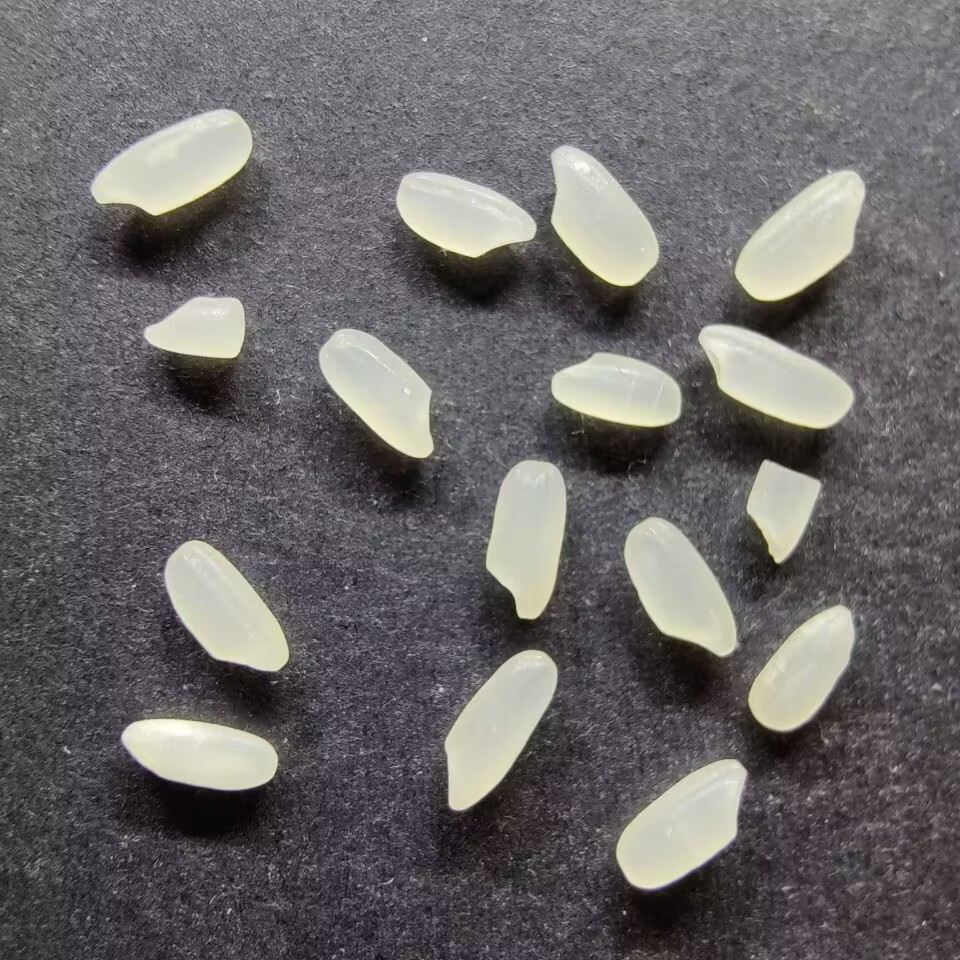broken: (743, 455, 822, 566), (142, 294, 247, 362)
rice: (442, 647, 560, 812), (88, 106, 252, 217), (732, 168, 866, 302), (614, 756, 747, 891), (162, 538, 291, 674), (696, 323, 855, 429), (622, 516, 739, 658), (547, 144, 662, 287), (315, 327, 436, 462), (746, 601, 857, 733), (481, 458, 566, 620), (393, 170, 539, 258), (120, 717, 278, 791), (548, 350, 683, 428)
